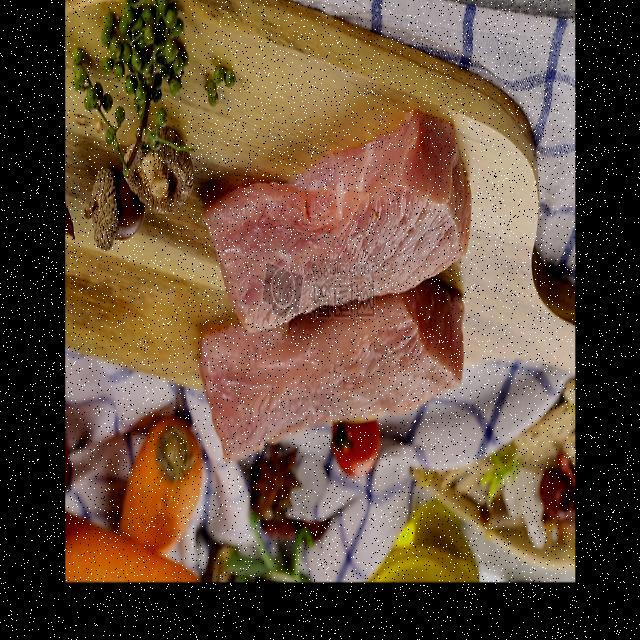pork: (228, 127, 462, 333), (212, 285, 457, 475)
